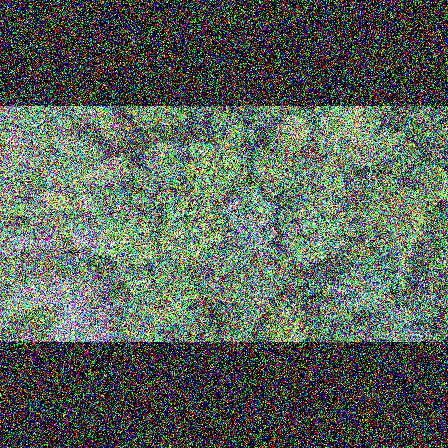Dead: (60, 296, 103, 329), (10, 273, 61, 300), (39, 275, 90, 302), (73, 215, 111, 248), (51, 315, 94, 341), (88, 296, 125, 323), (77, 276, 111, 301), (64, 247, 107, 265)
